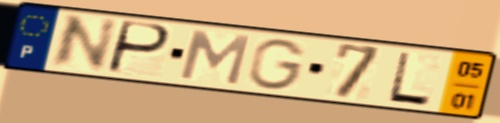7: (333, 41, 384, 101)
G: (246, 37, 310, 92)
L: (384, 50, 434, 109)
M: (175, 28, 253, 88)
N: (45, 13, 121, 71)
P: (103, 18, 174, 77)
